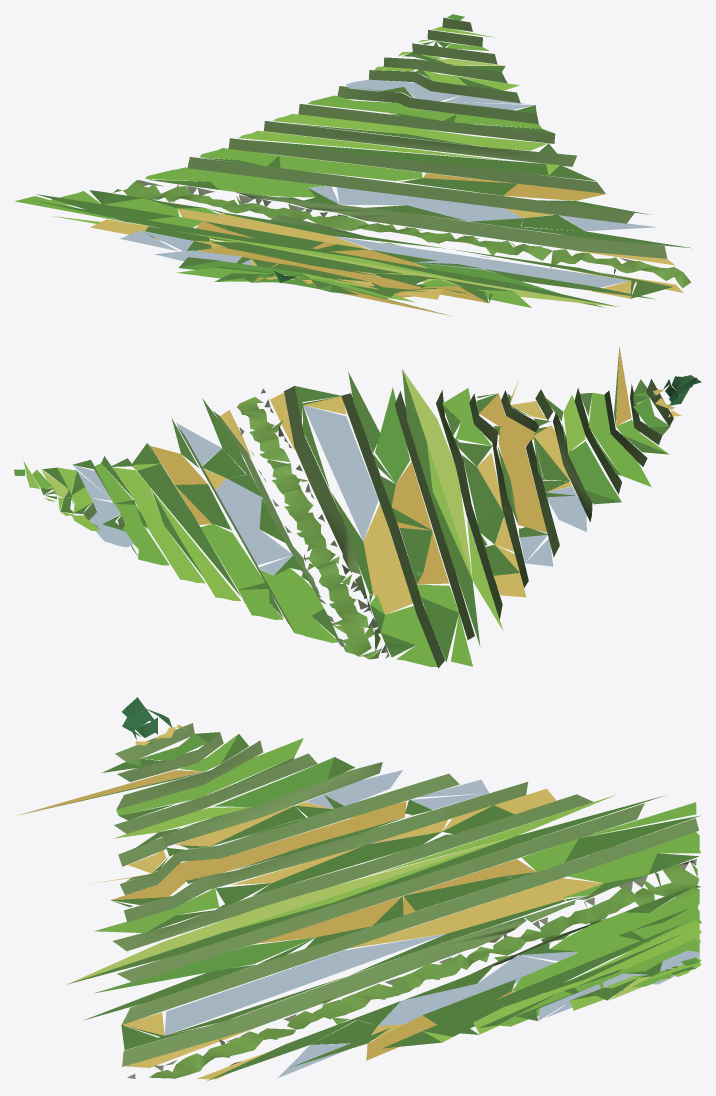
File: payo_land_xm2_y5_lod2.glb
3 views of the same model, one above another, from view 1: azimuth 30°, elevation 25°; view 2: azimuth 150°, elevation 25°; view 3: azimuth 270°, elevation 25° (orthographic). The views are drawn at different scales.
Parts seen in each view (by area): view 1: payo_land_xm2_y5; view 2: payo_land_xm2_y5; view 3: payo_land_xm2_y5.
Boxes of the visible parts, bbox=[...] form: payo_land_xm2_y5: bbox=[15, 14, 692, 316]; payo_land_xm2_y5: bbox=[14, 346, 701, 668]; payo_land_xm2_y5: bbox=[17, 697, 701, 1080].
Size of the model in its own units: 286 by 70.6 by 306.
